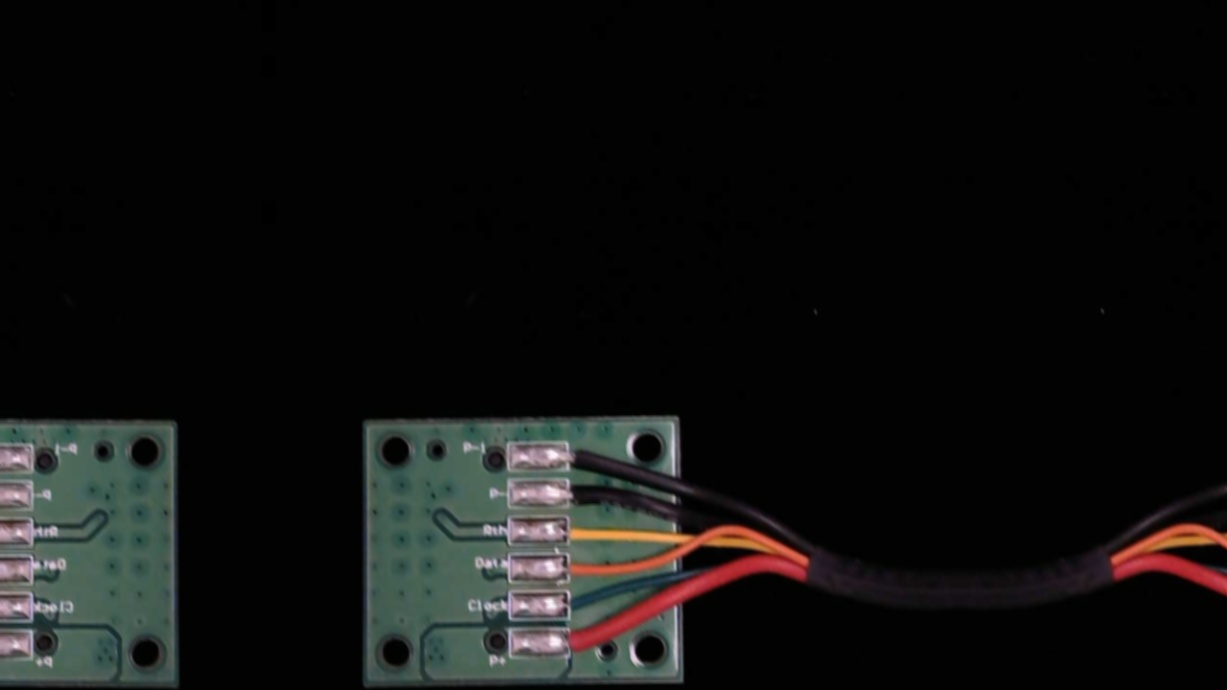Black: (554, 479, 621, 510)
Black1: (553, 441, 616, 473)
Green: (555, 587, 610, 619)
Orange: (553, 553, 611, 584)
Red: (553, 625, 614, 658)
Yellow: (553, 517, 616, 547)
